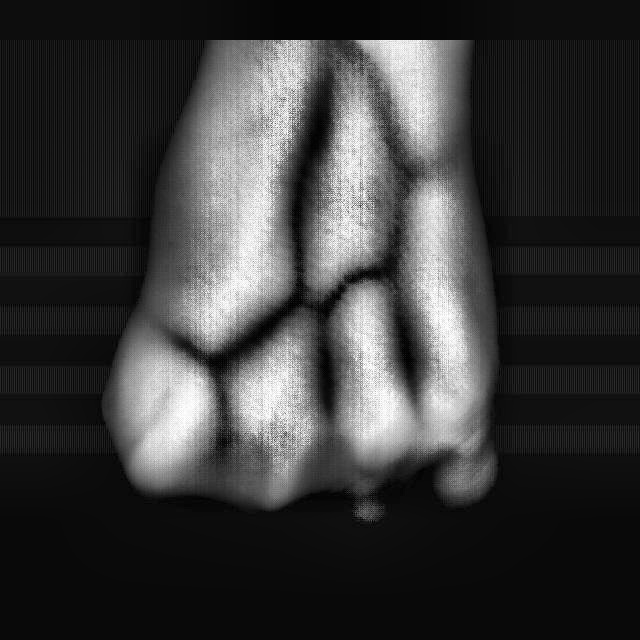Vein: (279, 66, 341, 272)
